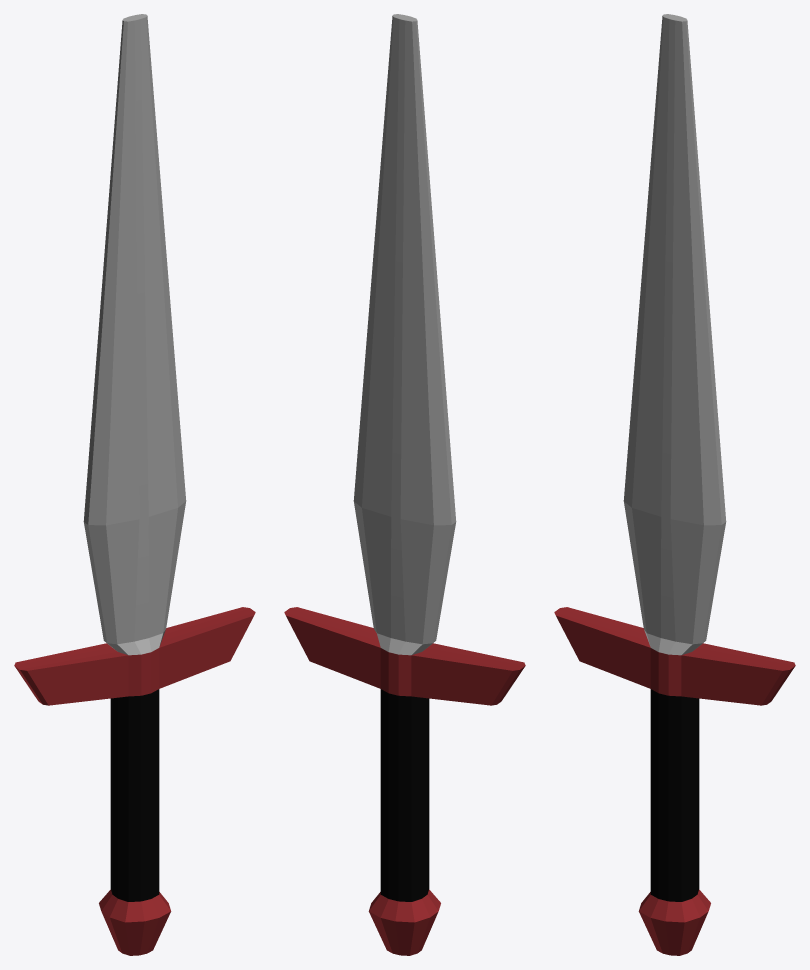
Rendered from Sword.fbx.
The picture shows the model from 3 angles, left to right: view 1: azimuth 30°, elevation 25°; view 2: azimuth 150°, elevation 25°; view 3: azimuth 330°, elevation 25°; orthographic projection.
Parts seen in each view (by area): view 1: Cube.001; view 2: Cube.001; view 3: Cube.001.
Boxes of the visible parts, x1=… form: Cube.001: x1=14, y1=14, x2=255, y2=955; Cube.001: x1=284, y1=14, x2=525, y2=955; Cube.001: x1=554, y1=14, x2=795, y2=955.
Bounding box in the file's own units: 120 × 452 × 30.
